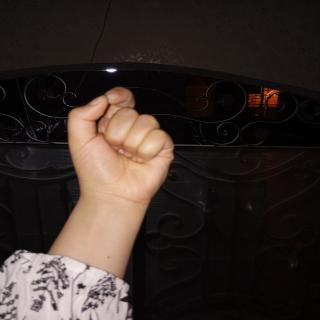FAA: (58, 87, 182, 222)
